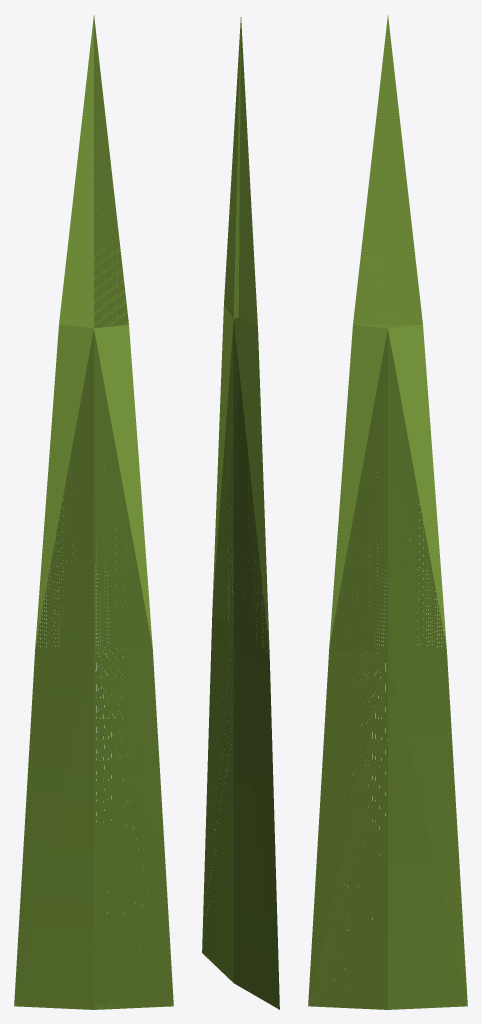
The model's file is grass2.obj.
The picture shows the model from 3 angles, left to right: view 1: azimuth 90°, elevation 25°; view 2: azimuth 210°, elevation 25°; view 3: azimuth 270°, elevation 25°; orthographic projection. The views are drawn at different scales.
Visible parts, largest first — view 1: Plane.001; view 2: Plane.001; view 3: Plane.001.
Part boxes in pixels (<box>): Plane.001: <box>14,15,173,1009</box>; Plane.001: <box>202,17,279,1009</box>; Plane.001: <box>308,15,467,1009</box>.
Size of the model in its own units: 0.02 by 1.27 by 0.1859.
1 material, 1 textured.
